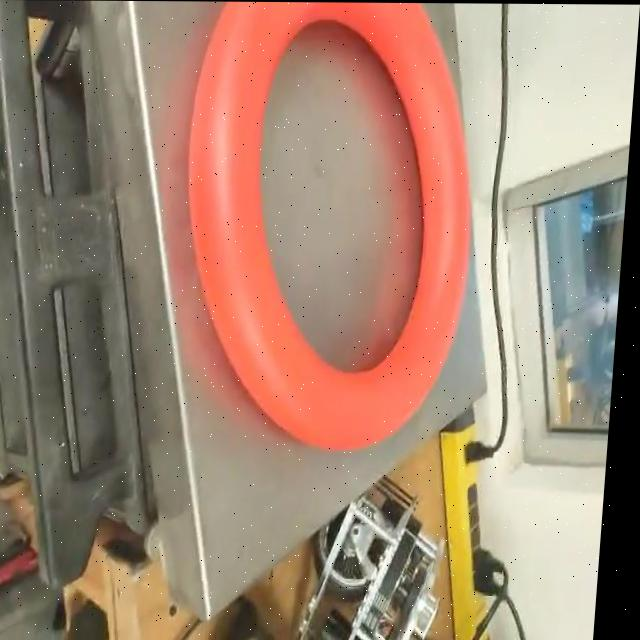note: (168, 1, 492, 457)
